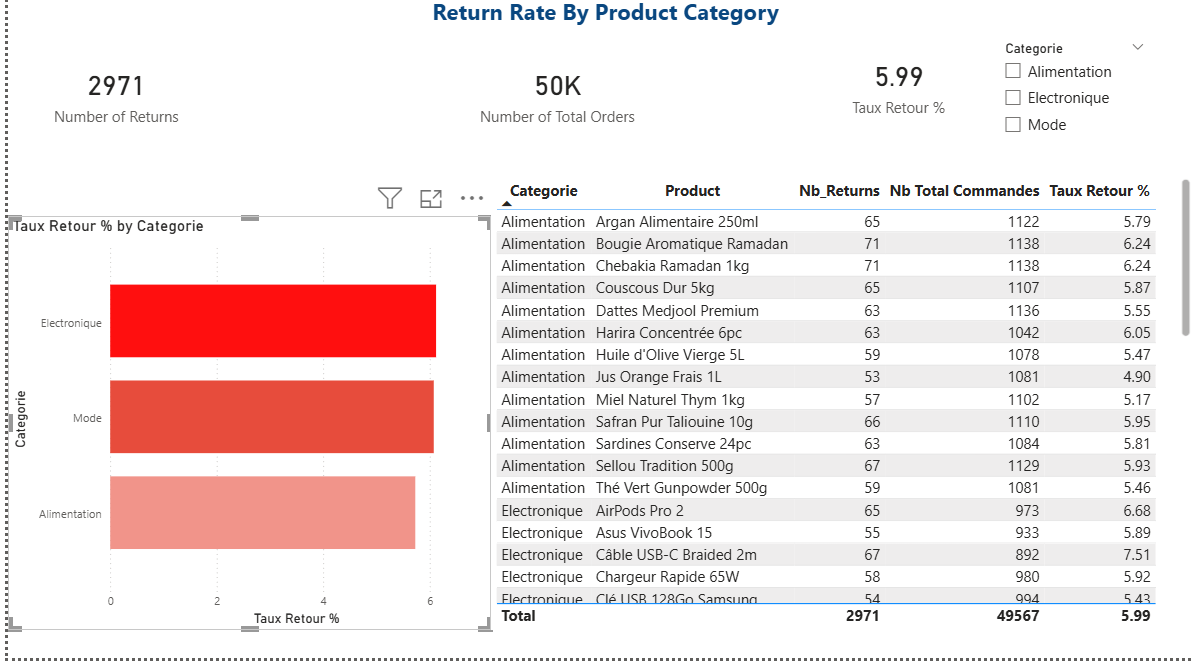

Layout of this report page (visuals, bound fields, positions):
{"tool":"powerbi","page":{"name":"Taux de Retour","canvas":[1280,720],"ordinal":3},"visuals":[{"type":"textbox","box":[387.1,0,606.7,113.9],"z":0},{"type":"card","fields":{"Values":["FAIT_VENTES.Nb Retours"]},"box":[0,26,300.9,198.4],"z":1000},{"type":"card","fields":{"Values":["FAIT_VENTES.Nb Total Commandes"]},"box":[341.6,47.2,300.9,177.3],"z":2000},{"type":"card","fields":{"Values":["FAIT_VENTES.Taux Retour %"]},"box":[658.8,56.9,289.5,167.5],"z":3000},{"type":"clusteredBarChart","fields":{"Category":["DIM_PRODUIT.categorie"],"Y":["FAIT_VENTES.Taux Retour Global"]},"box":[40.7,224.5,514,444],"z":4000},{"type":"tableEx","fields":{"Values":["DIM_PRODUIT.categorie","DIM_PRODUIT.nom_produit","FAIT_VENTES.Taux Retour Global","FAIT_VENTES.Nb Commandes","FAIT_VENTES.Retours Total"]},"box":[598.6,224.5,668.5,471.7],"z":5000},{"type":"slicer","fields":{"Values":["DIM_PRODUIT.categorie"]},"box":[979.2,61.8,274.9,149.6],"z":6000}]}

Visuals, with their boxes in screenshot pixels (x1, y1, x2, y2), scaled from the page's 1280x720 canvas onto the 1191x663 screenshot:
textbox: select_region(360, 0, 925, 105)
card - FAIT_VENTES.Nb Retours: select_region(0, 24, 280, 207)
card - FAIT_VENTES.Nb Total Commandes: select_region(318, 43, 598, 207)
card - FAIT_VENTES.Taux Retour %: select_region(613, 52, 882, 207)
clusteredBarChart - DIM_PRODUIT.categorie x FAIT_VENTES.Taux Retour Global: select_region(38, 207, 516, 616)
tableEx - DIM_PRODUIT.categorie x DIM_PRODUIT.nom_produit: select_region(557, 207, 1179, 641)
slicer - DIM_PRODUIT.categorie: select_region(911, 57, 1167, 195)
